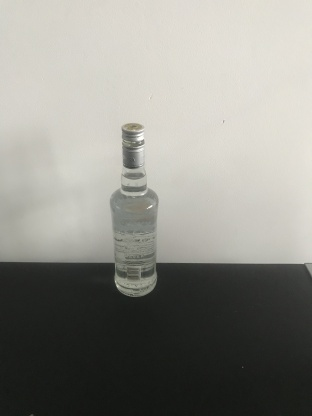nakretka: (120, 121, 146, 169)
